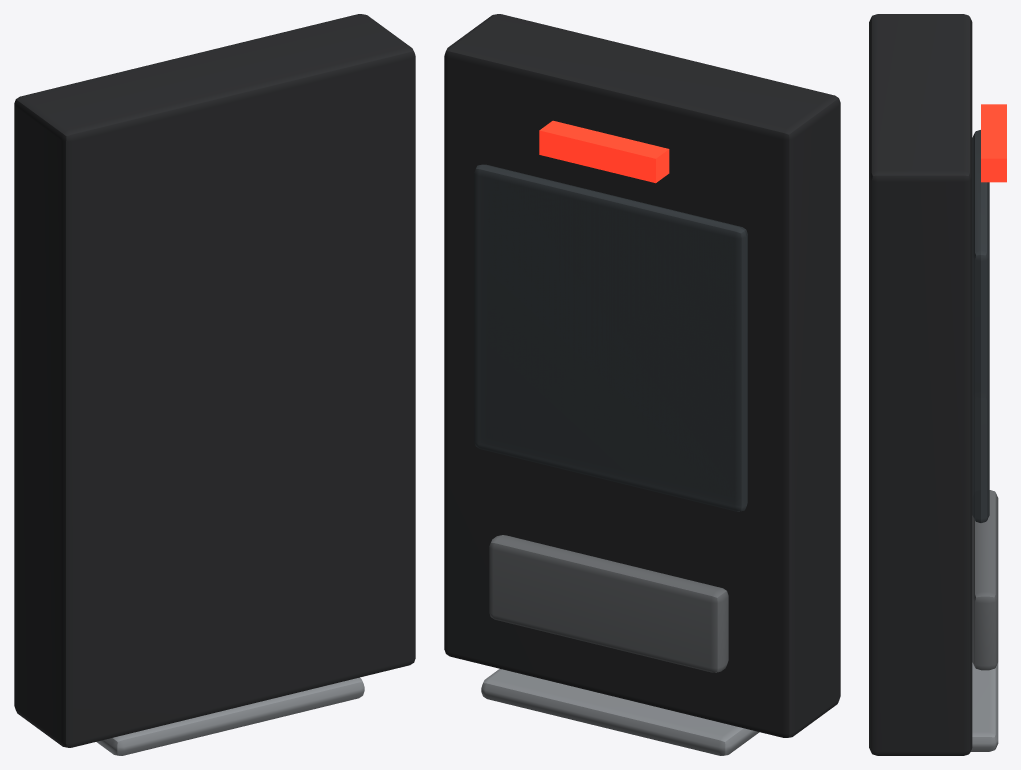
The model's file is prop_keycard_reader.glb.
3 views of the same model, side by side, from view 1: azimuth 30°, elevation 25°; view 2: azimuth 150°, elevation 25°; view 3: azimuth 270°, elevation 25° (orthographic). The views are drawn at different scales.
Visible parts, largest first — view 1: Panel; view 2: Panel, Led; view 3: Panel, Led.
Boxes of the visible parts, <box> form: Panel: <box>14,14,415,755</box>; Panel: <box>444,14,840,755</box>; Led: <box>539,120,669,183</box>; Panel: <box>869,14,998,755</box>; Led: <box>981,104,1006,182</box>.
Size of the model in its own units: 0.09 by 0.155 by 0.032.
